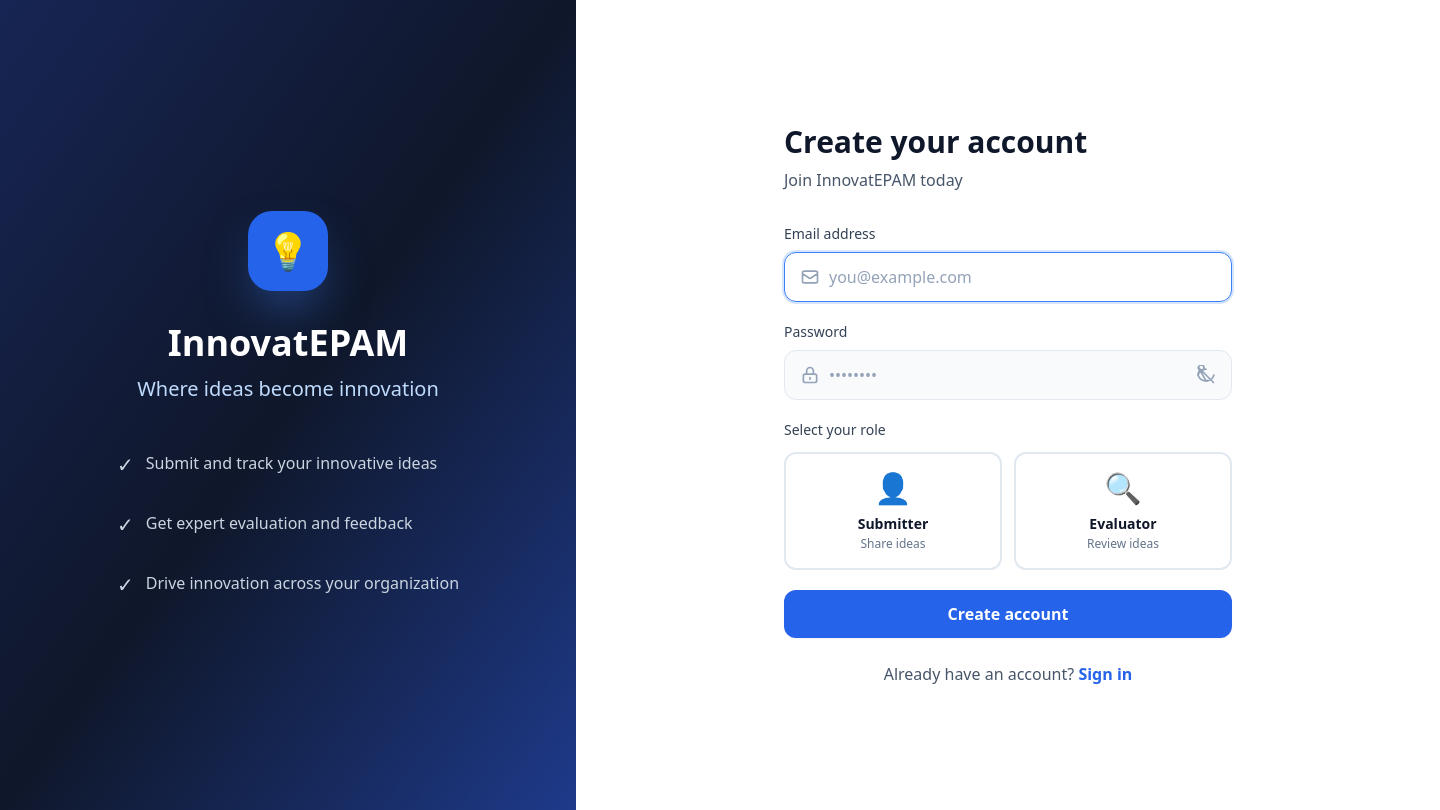
Test: RegisterPage - Integration › should validate form fields
Note: Try to submit empty form
Click the button "Create account". click: (1008, 614)
box: [784,590,1232,638]
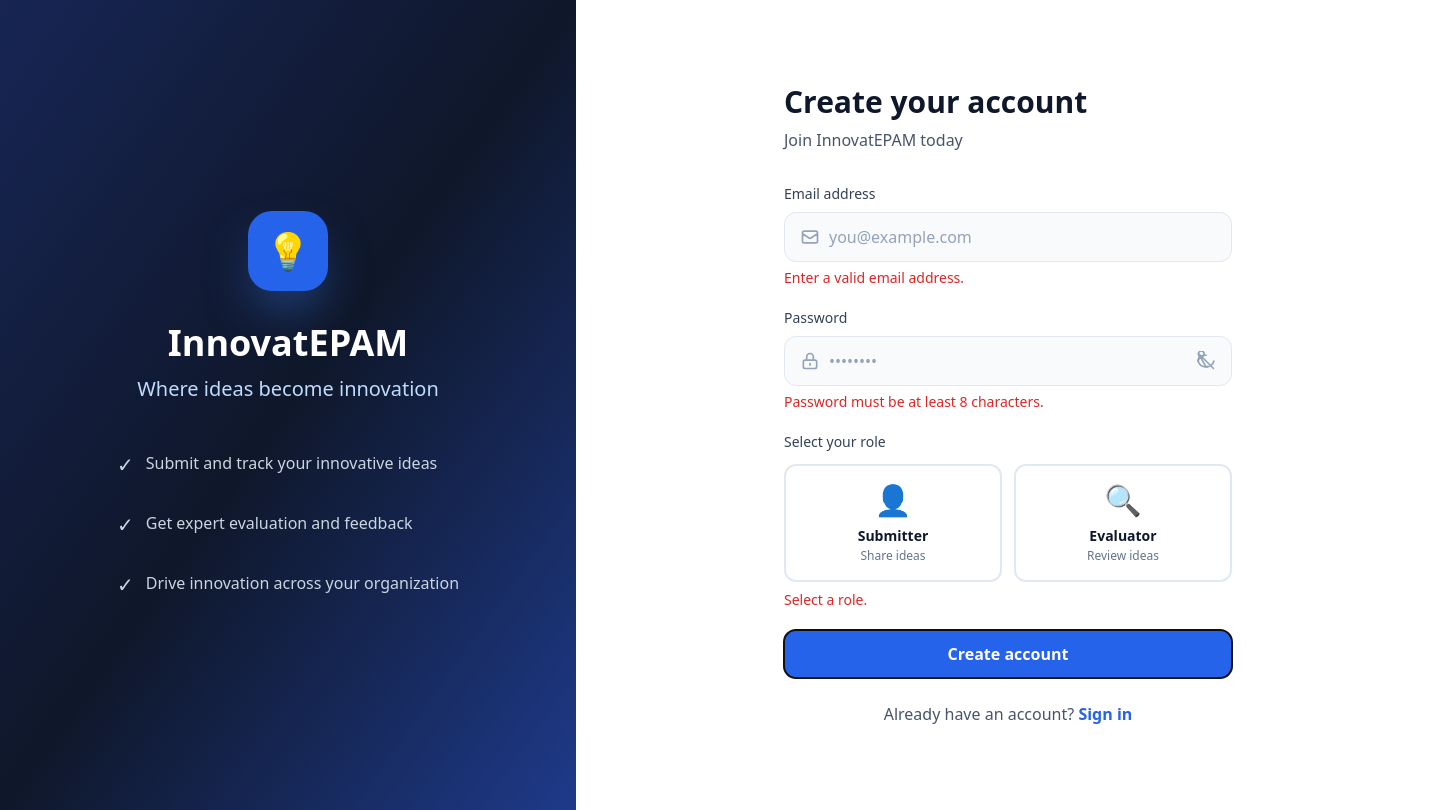
Check: the text "Enter a valid email address." is shown, box [784,268,964,287]
